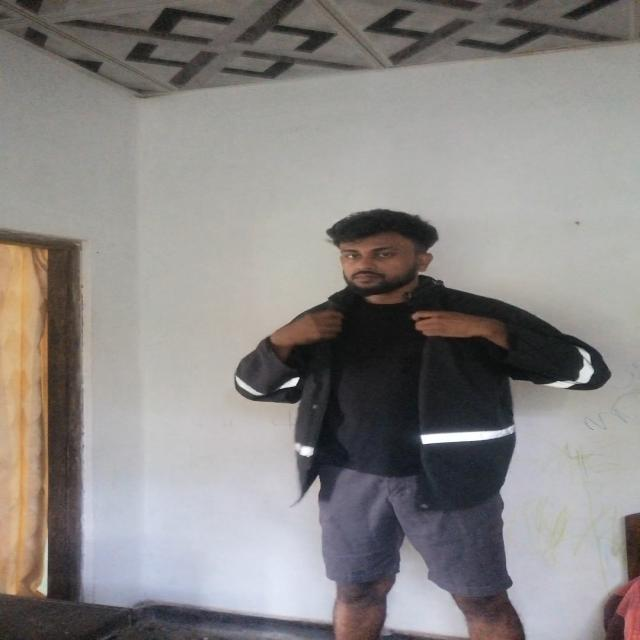Jacket_Wearer: (235, 275, 622, 501)
